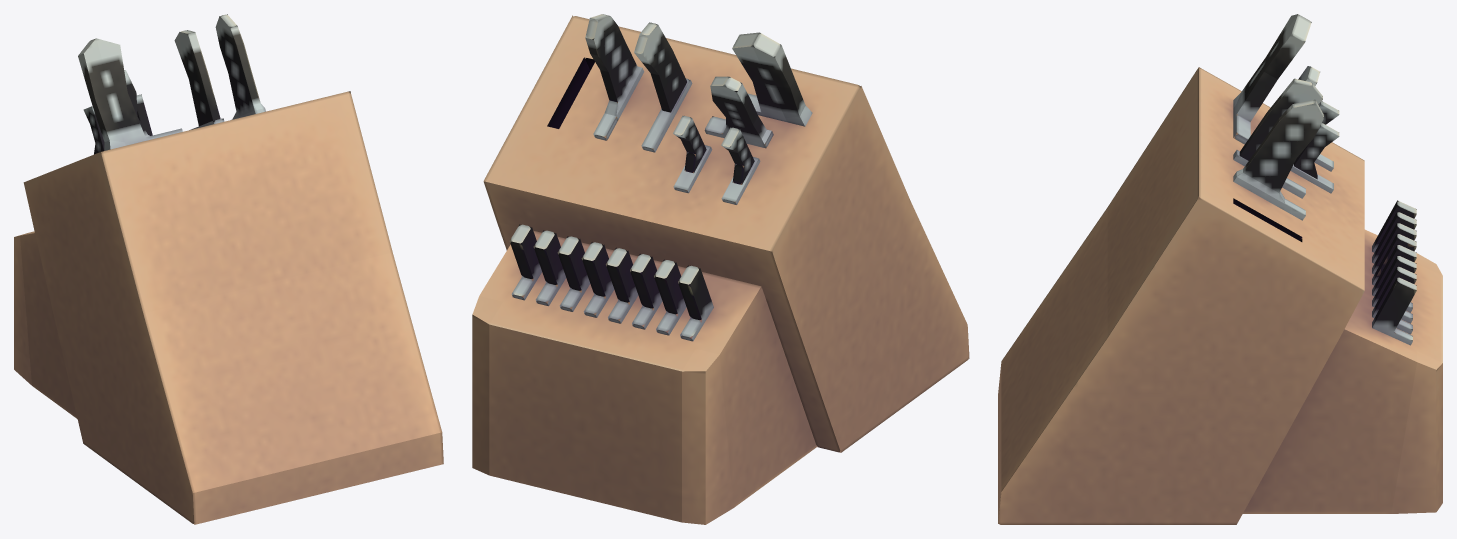
Rendered from KnifeBlock.fbx.
3 renders of one model, left to right at view 1: azimuth 30°, elevation 25°; view 2: azimuth 150°, elevation 25°; view 3: azimuth 270°, elevation 25°, orthographic. The views are drawn at different scales.
Parts seen in each view (by area): view 1: mesh; view 2: mesh; view 3: mesh.
Boxes of the visible parts, left/top/right/bottom form: mesh: left=14, top=14, right=443, bottom=524; mesh: left=472, top=14, right=969, bottom=524; mesh: left=998, top=14, right=1442, bottom=524.
Size of the model in its own units: 150 by 215 by 216.
1 material, 1 textured.
